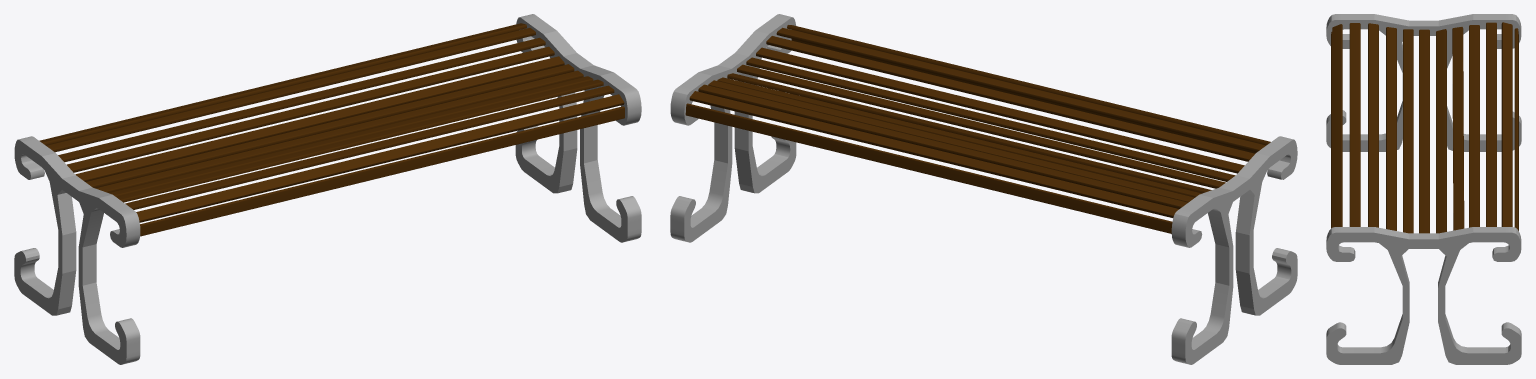
File: Park Bench noBack.fbx
The picture shows the model from 3 angles, left to right: view 1: azimuth 30°, elevation 25°; view 2: azimuth 150°, elevation 25°; view 3: azimuth 270°, elevation 25°; orthographic projection. The views are drawn at different scales.
Visible parts, largest first — view 1: pCube21, pCube25, polySurface30, polySurface22, polySurface21, polySurface25, polySurface26, polySurface32, polySurface33, polySurface23, polySurface24, polySurface20 (+2 smaller); view 2: pCube21, pCube25, polySurface35, polySurface34, polySurface28, polySurface20, polySurface24, polySurface32, polySurface23, polySurface26, polySurface33, polySurface21 (+3 smaller); view 3: pCube25, pCube21, polySurface32, polySurface34, polySurface25, polySurface26, polySurface23, polySurface24, polySurface20, polySurface21, polySurface28, polySurface33 (+3 smaller).
Part boxes in pixels (x1,y1,x2,y2): pCube21: [14, 136, 140, 364]; pCube25: [515, 14, 641, 242]; polySurface30: [140, 106, 624, 236]; polySurface22: [136, 94, 624, 222]; polySurface21: [75, 56, 564, 181]; polySurface25: [67, 46, 554, 172]; polySurface26: [46, 28, 535, 152]; polySurface32: [125, 85, 614, 209]; polySurface33: [58, 37, 545, 162]; polySurface23: [85, 64, 574, 188]; polySurface24: [95, 70, 583, 192]; polySurface20: [116, 79, 603, 202]; pCube21: [1171, 136, 1297, 364]; pCube25: [670, 14, 796, 242]; polySurface35: [685, 103, 1172, 233]; polySurface34: [689, 91, 1179, 217]; polySurface28: [756, 47, 1244, 173]; polySurface20: [766, 36, 1254, 161]; polySurface24: [746, 57, 1235, 181]; polySurface32: [776, 27, 1265, 151]; polySurface23: [737, 64, 1225, 188]; polySurface26: [698, 84, 1187, 208]; polySurface33: [708, 80, 1194, 202]; polySurface21: [727, 73, 1211, 193]; pCube25: [1326, 227, 1521, 364]; pCube21: [1326, 14, 1521, 151]; polySurface32: [1349, 23, 1360, 226]; polySurface34: [1501, 22, 1512, 226]; polySurface25: [1452, 27, 1464, 230]; polySurface26: [1486, 22, 1496, 226]; polySurface23: [1419, 29, 1429, 233]; polySurface24: [1403, 29, 1413, 233]; polySurface20: [1368, 23, 1378, 227]; polySurface21: [1436, 29, 1446, 233]; polySurface28: [1386, 27, 1396, 230]; polySurface33: [1469, 25, 1479, 227].
Bounding box in the file's own units: 1.5 × 0.4231 × 0.5657.
